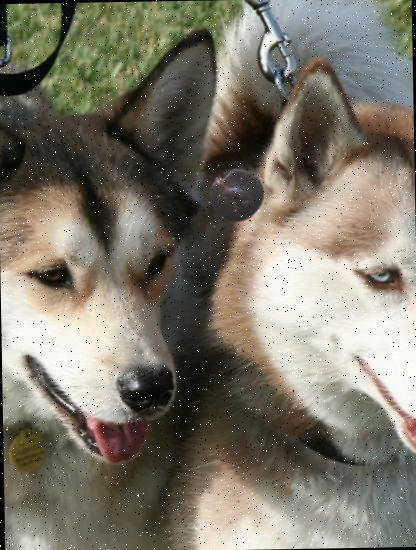Passion: (209, 166, 265, 222)
